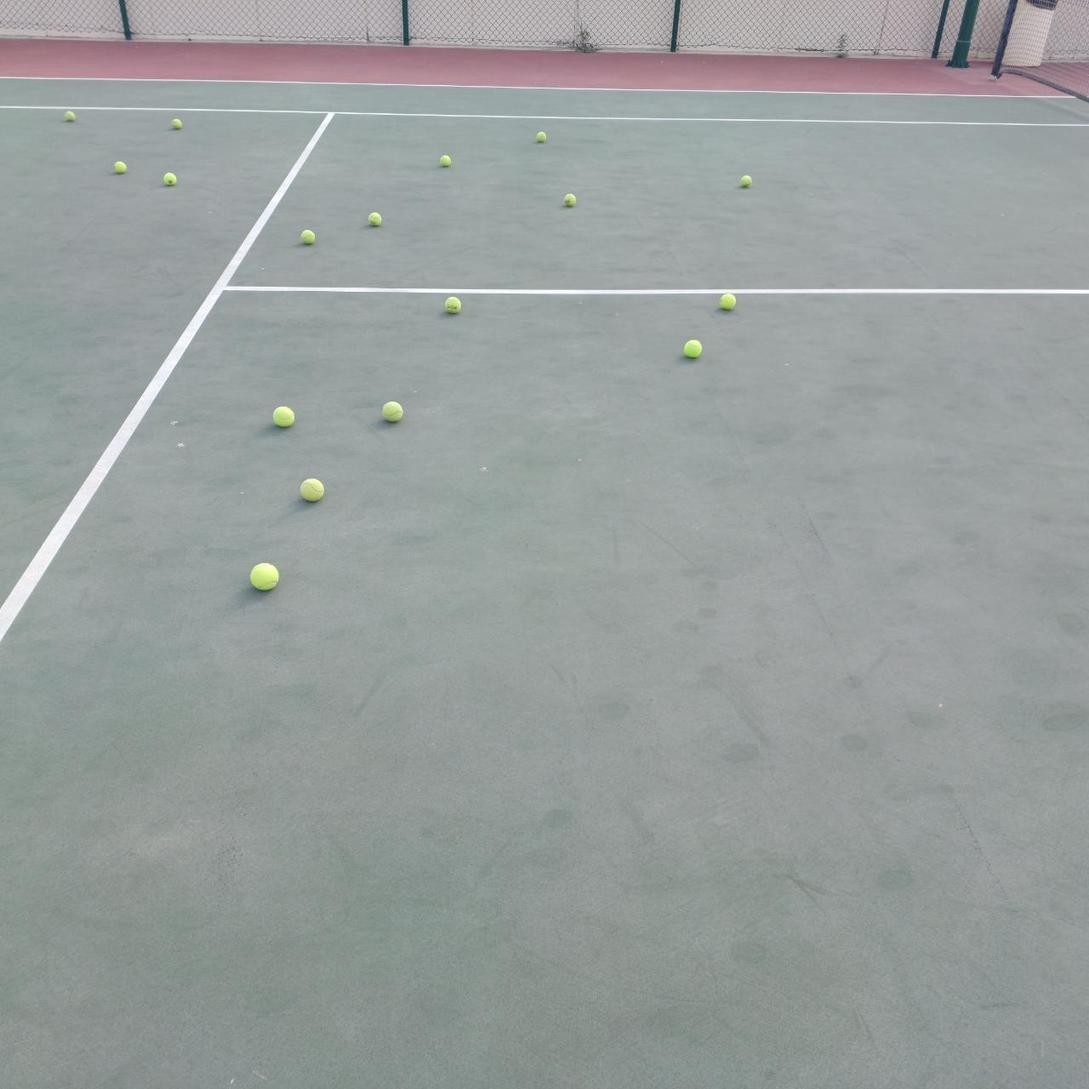tennis-ball: (248, 560, 279, 591), (298, 476, 324, 502), (380, 398, 403, 423), (271, 403, 294, 428), (682, 338, 702, 359), (443, 294, 462, 314), (718, 292, 736, 311), (366, 209, 382, 227), (299, 228, 315, 245), (162, 170, 177, 185), (562, 192, 576, 208), (738, 174, 752, 188), (114, 161, 126, 174), (440, 155, 452, 168), (64, 111, 76, 122), (171, 118, 182, 130), (537, 131, 546, 143)
